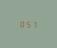five: (25, 19, 30, 28)
seven: (31, 20, 36, 28)
zero: (18, 19, 23, 27)
